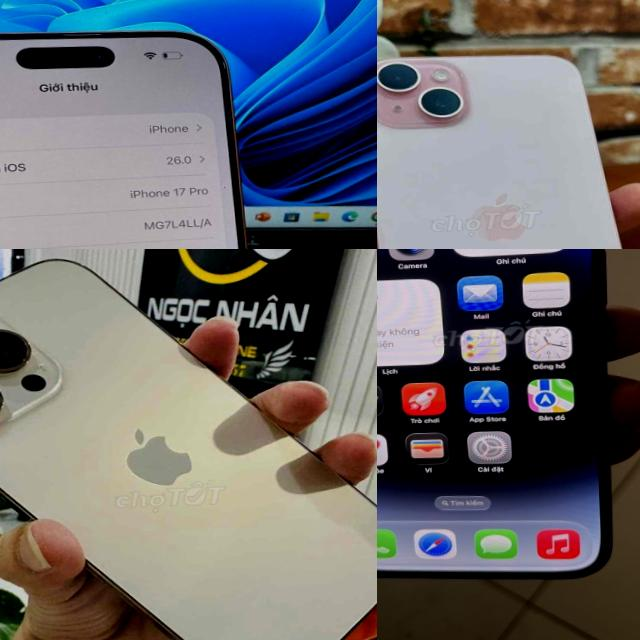gen_12_13: (377, 46, 640, 249)
gen_14: (0, 249, 377, 640), (377, 249, 627, 608)
gen_17: (0, 25, 289, 249)
